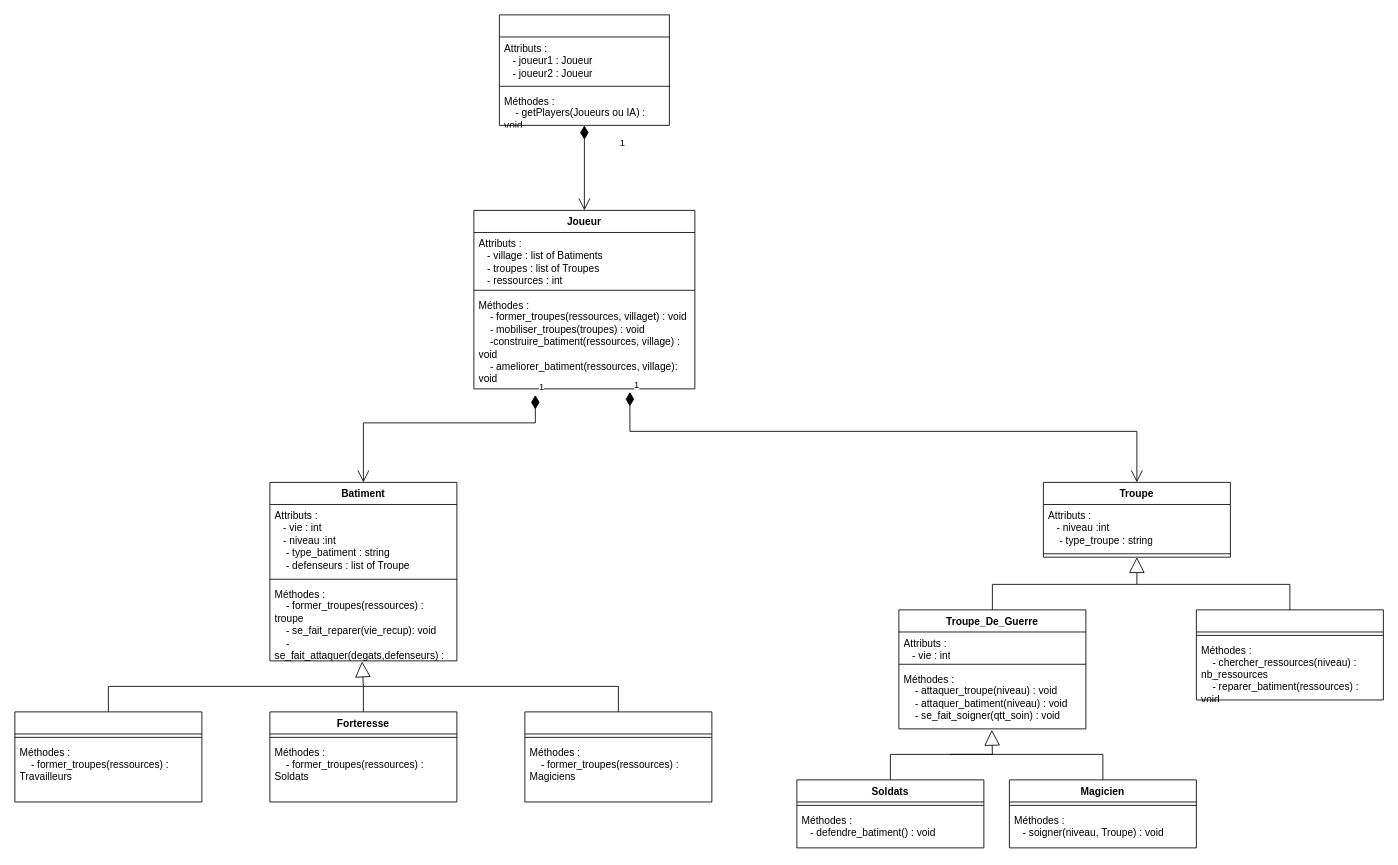
Some shapes in this 1398 by 865 pixel diagram are drawn without their labels. Here are the shapes that lost their labels. From the top down, the box of each, then its label:
(499, 14, 669, 125): Jeu
(1196, 609, 1383, 700): Travailleurs
(14, 711, 202, 802): Base
(524, 711, 712, 802): EcoleDeMagie
